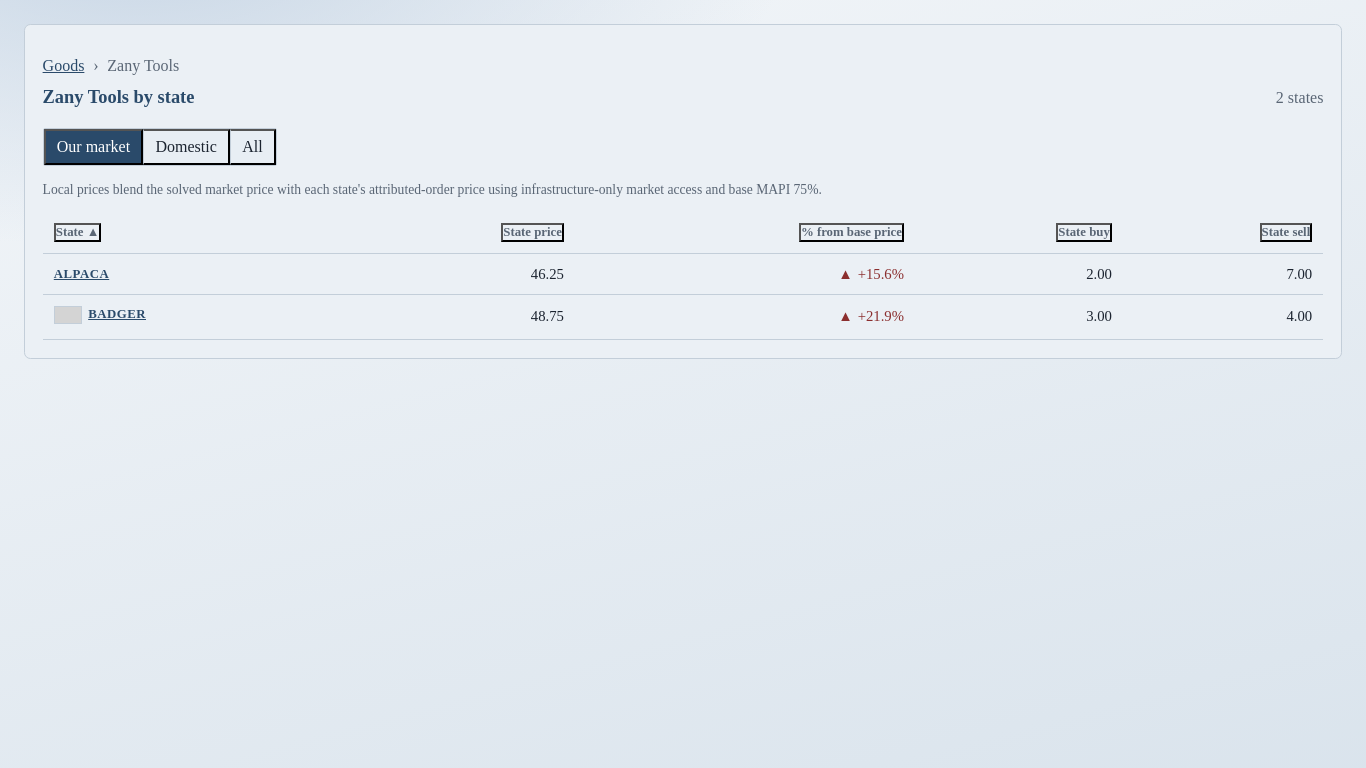
it: PriceExplorer › can return to Our market when playerMarketId is present
Click the button "Domestic" at (187, 147), box [143,129,230,165]
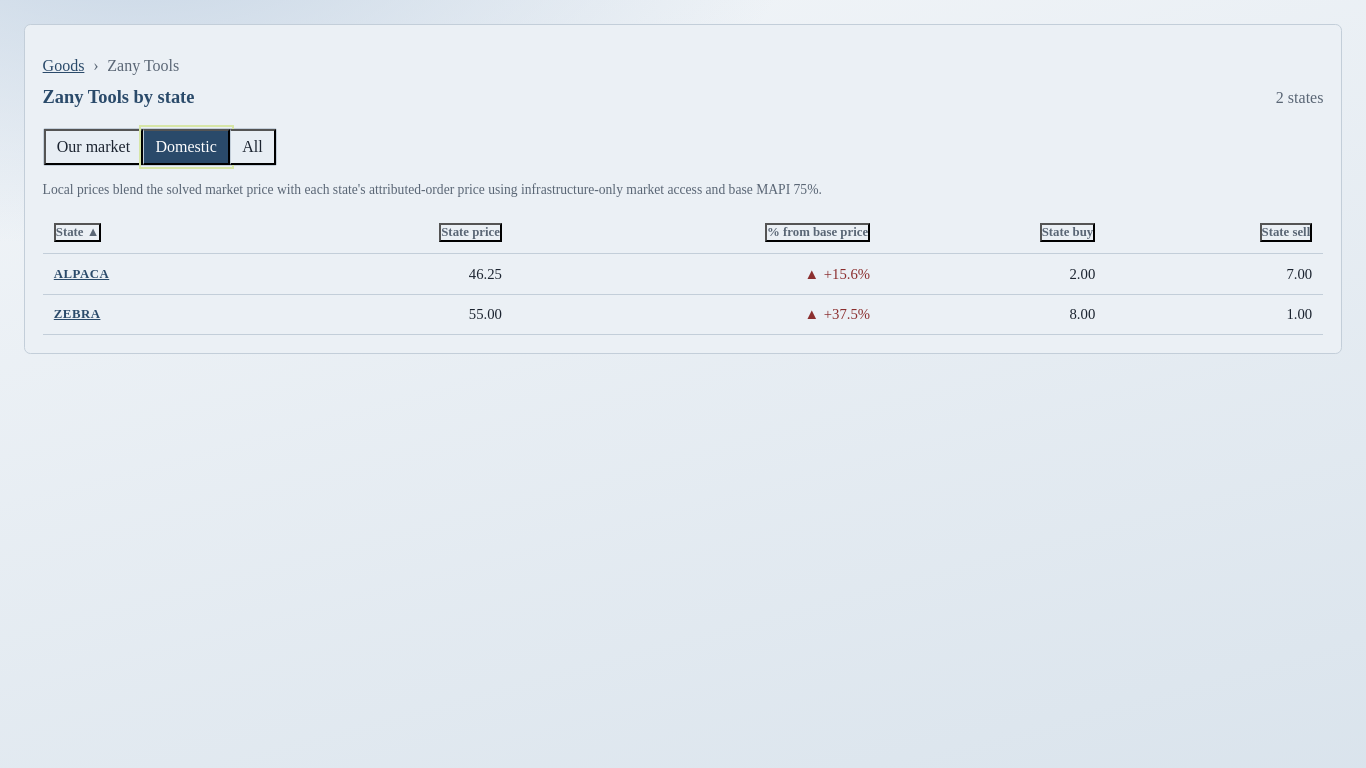
Click the button "Our market" at (93, 147), box [44,129,143,165]
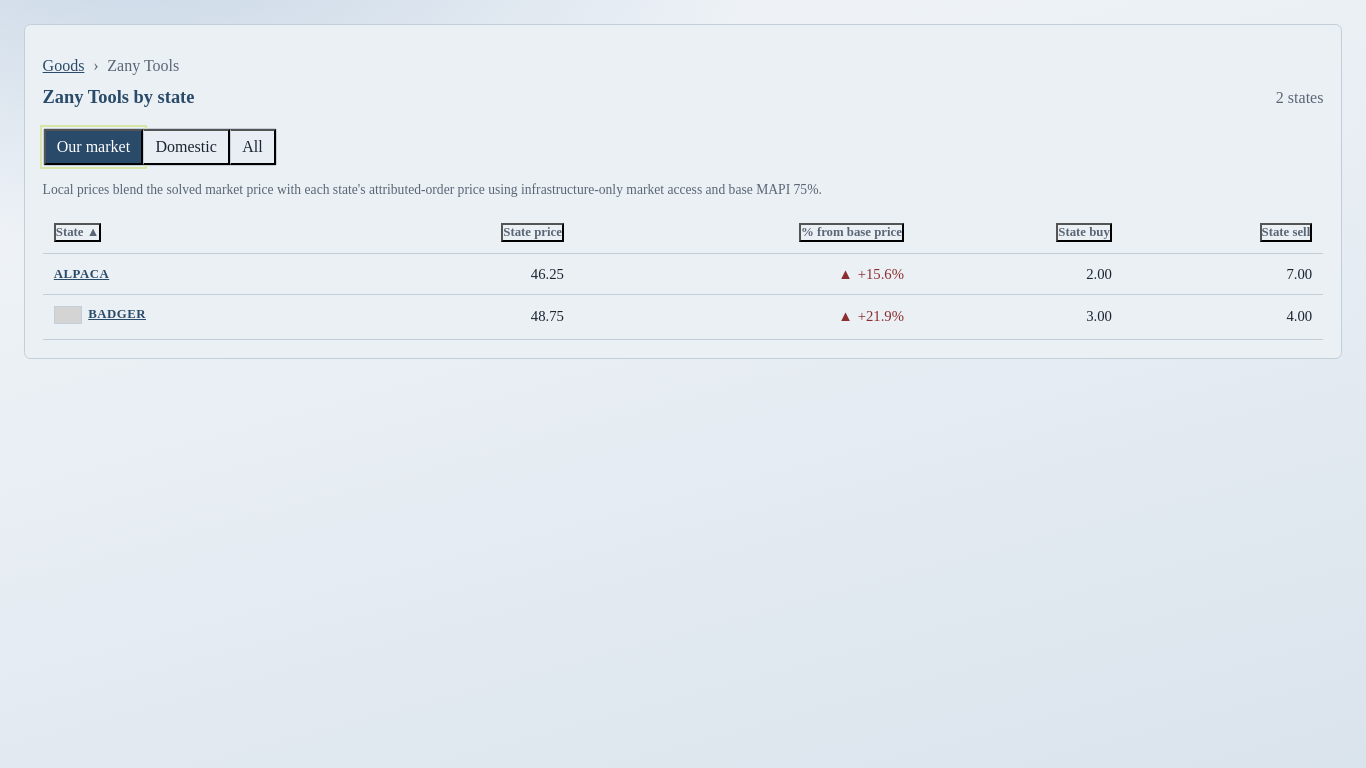
Check: the link "Badger" is shown, box [54,306,146,324]
Check: the link "Zebra" is gone
